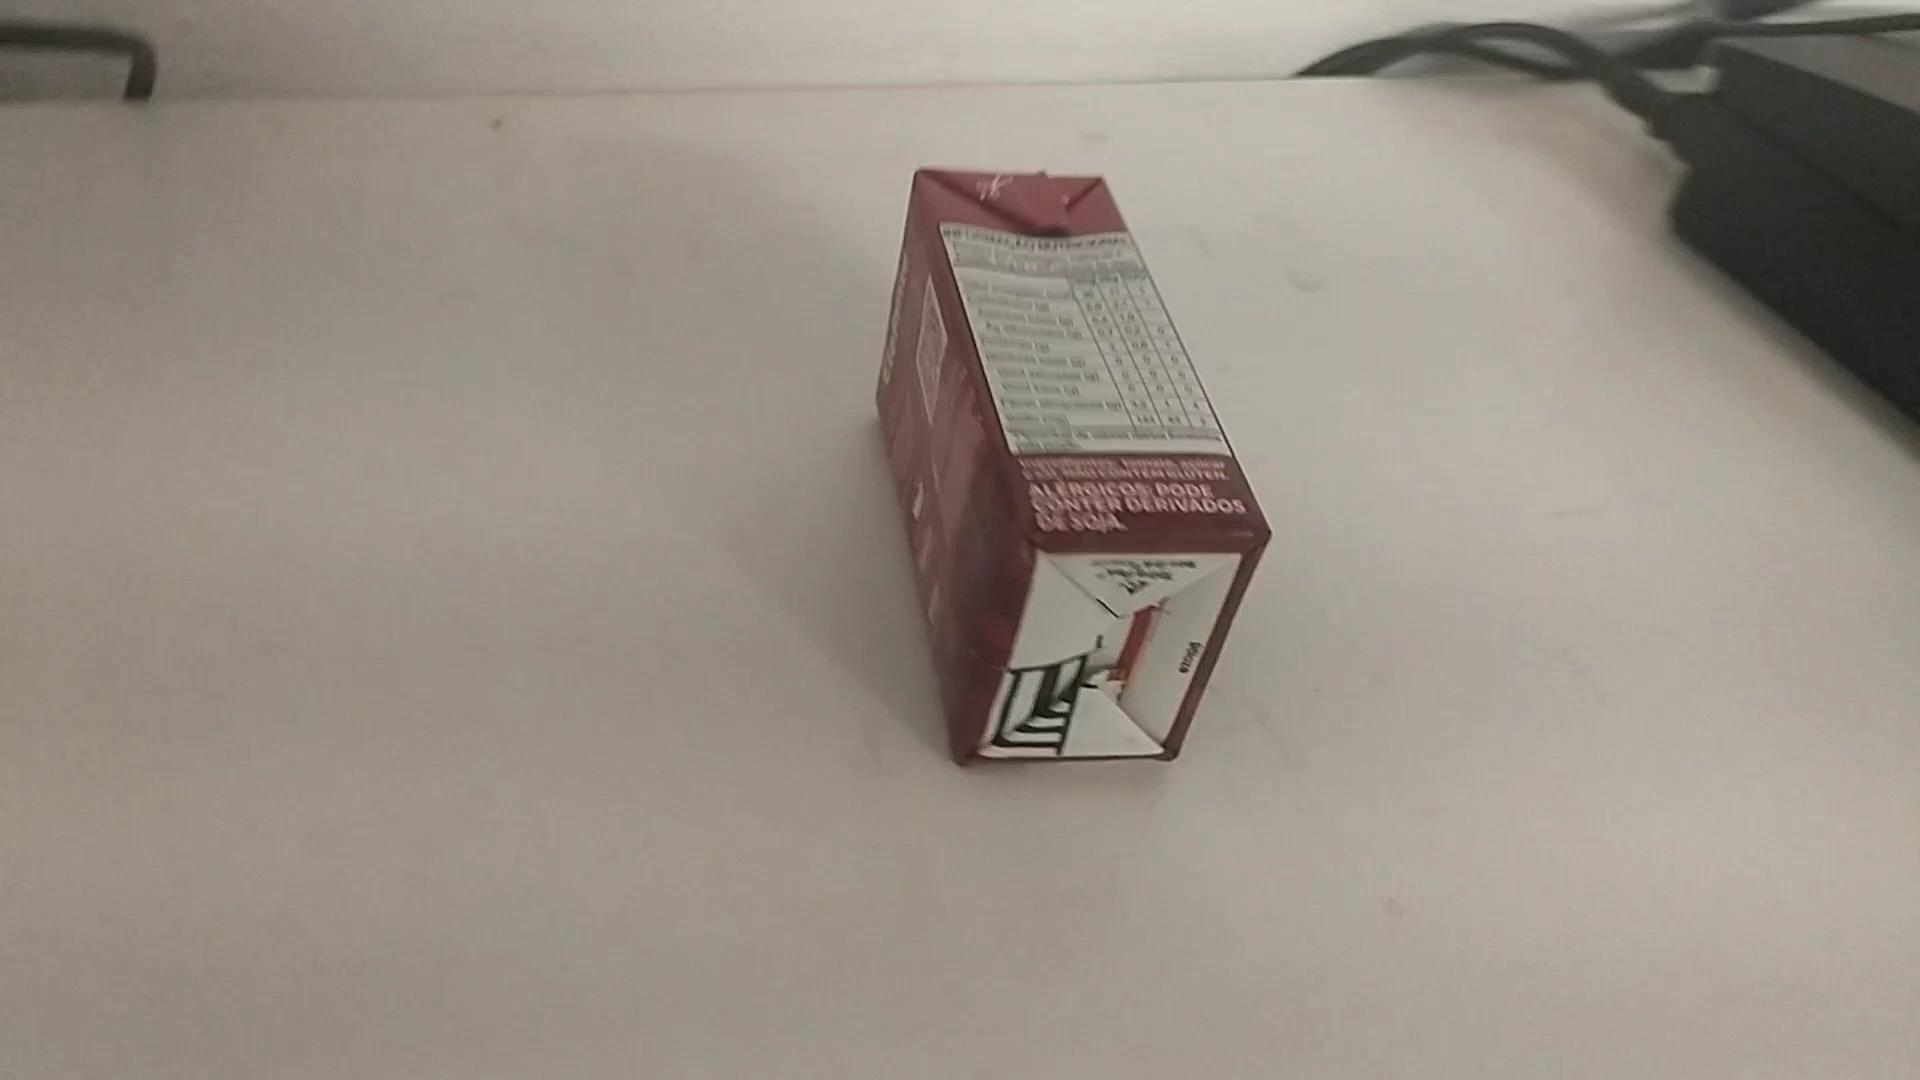tomate: (873, 164, 1274, 775)
